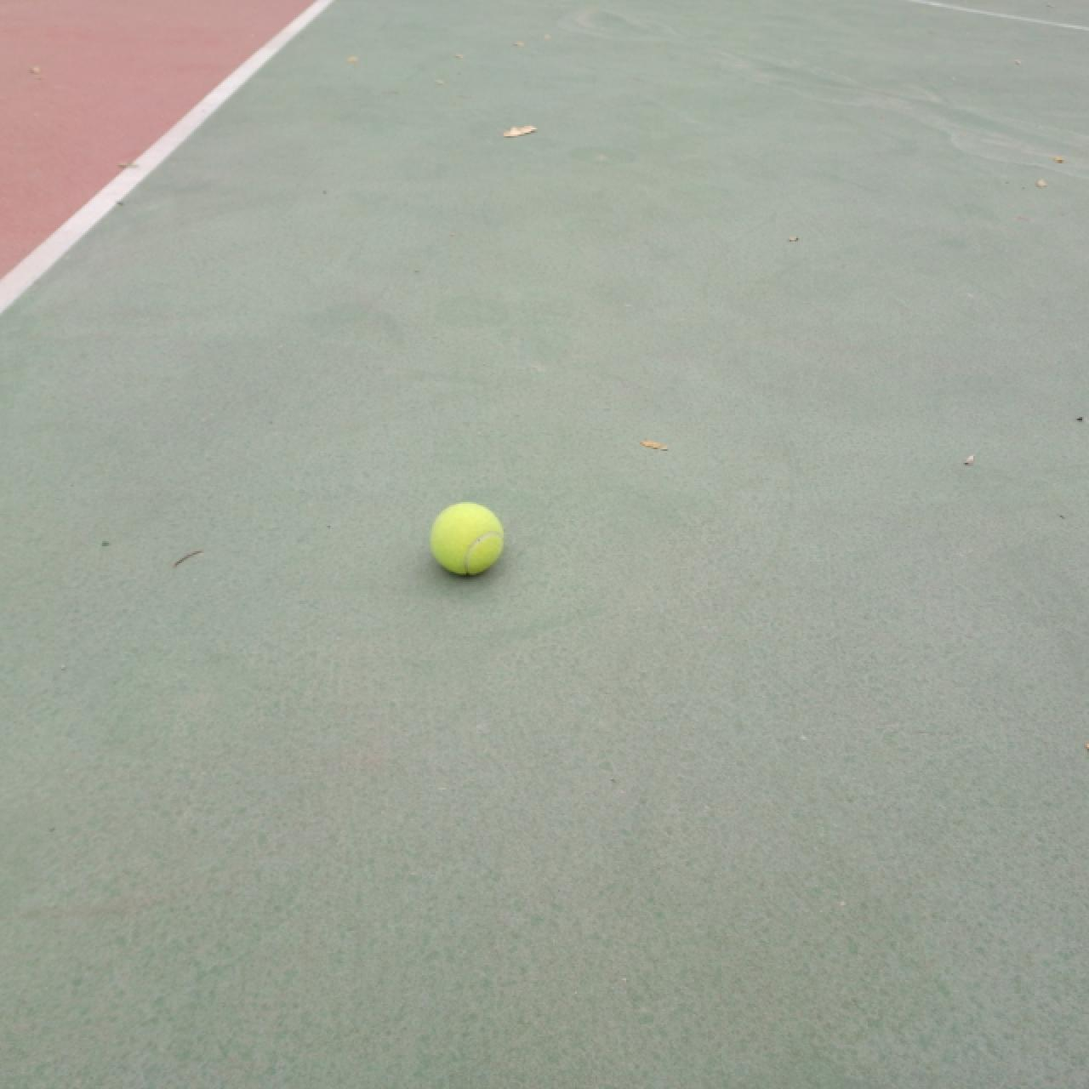tennis-ball: (428, 501, 506, 577)
